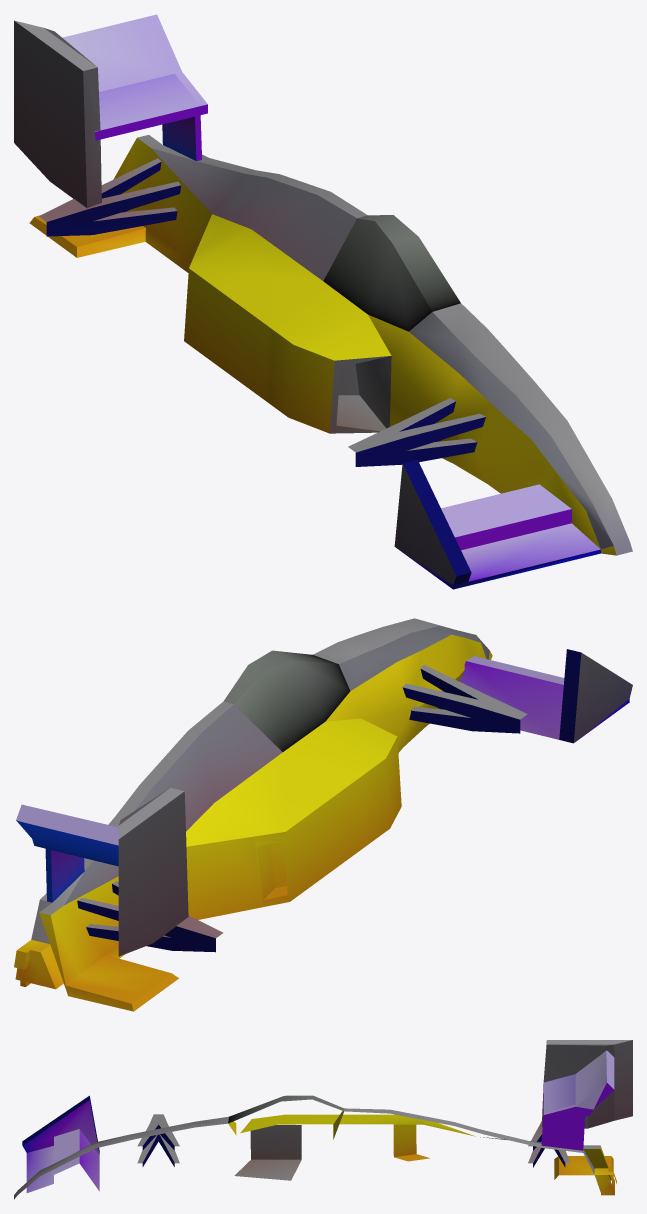
Rendered from car3.glb.
3 views of the same model, one above another, from view 1: azimuth 30°, elevation 25°; view 2: azimuth 150°, elevation 25°; view 3: azimuth 270°, elevation 25° (orthographic). The views are drawn at different scales.
Parts seen in each view (by area): view 1: car3; view 2: car3; view 3: car3.
Part boxes in pixels (x1=…): car3: x1=14, y1=14, x2=632, y2=589; car3: x1=14, y1=618, x2=632, y2=1011; car3: x1=14, y1=1040, x2=632, y2=1199.
Bounding box in the file's own units: 0.2216 × 0.2513 × 1.12.
